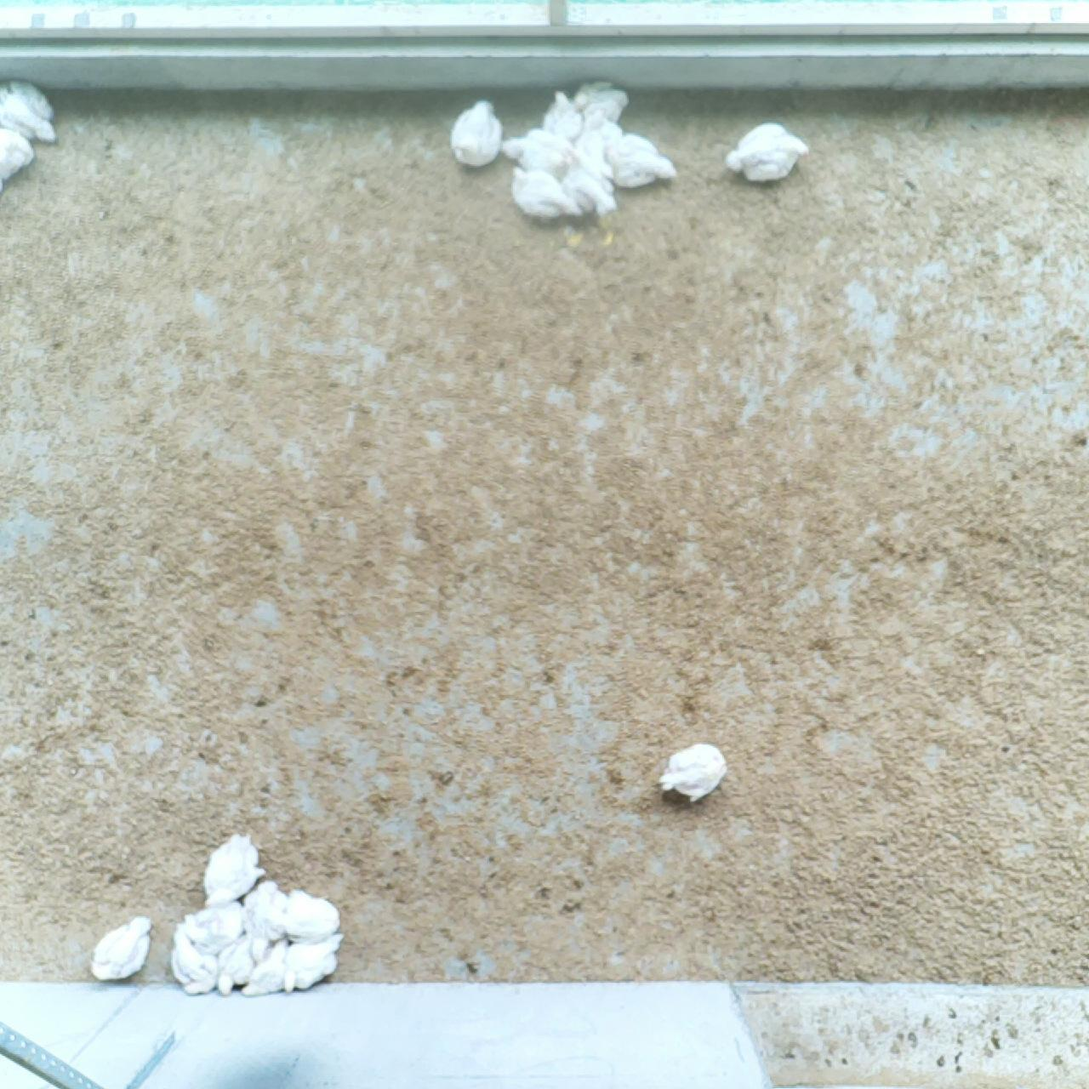chicken: (724, 120, 813, 187), (599, 121, 678, 192), (86, 913, 153, 988), (202, 833, 266, 909), (505, 162, 583, 224), (281, 927, 350, 995), (449, 97, 507, 173), (208, 925, 270, 996), (501, 121, 574, 180), (0, 76, 62, 145), (164, 926, 222, 998), (556, 151, 620, 215), (659, 742, 726, 803), (181, 894, 246, 956), (239, 879, 287, 961), (573, 107, 620, 189), (279, 884, 342, 945), (237, 938, 295, 1001), (572, 79, 636, 125), (540, 85, 584, 145), (0, 127, 37, 191)
